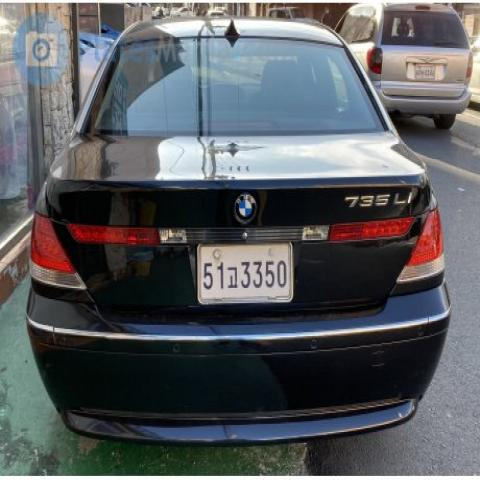LP: (182, 231, 305, 312)
